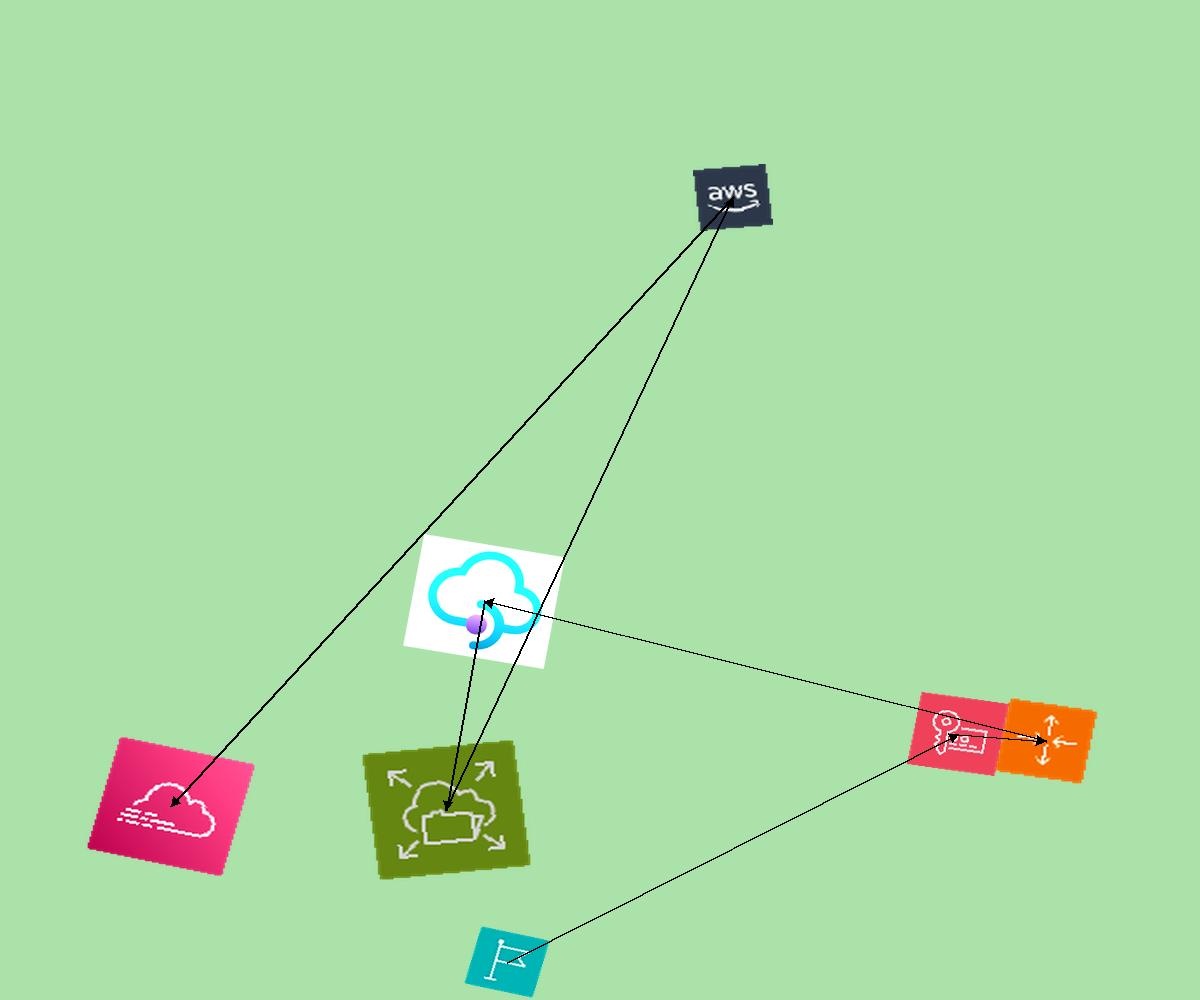AWS-Cloud-logo: (693, 164, 773, 231)
AWS-CloudTrail: (86, 736, 256, 877)
AWS-EFS: (361, 739, 532, 881)
AWS-Key-Management-Service: (906, 691, 1010, 777)
AWS-Region: (464, 926, 550, 998)
AWS-Scaling-group: (993, 697, 1099, 785)
Azure_api_gateway: (403, 534, 565, 669)
